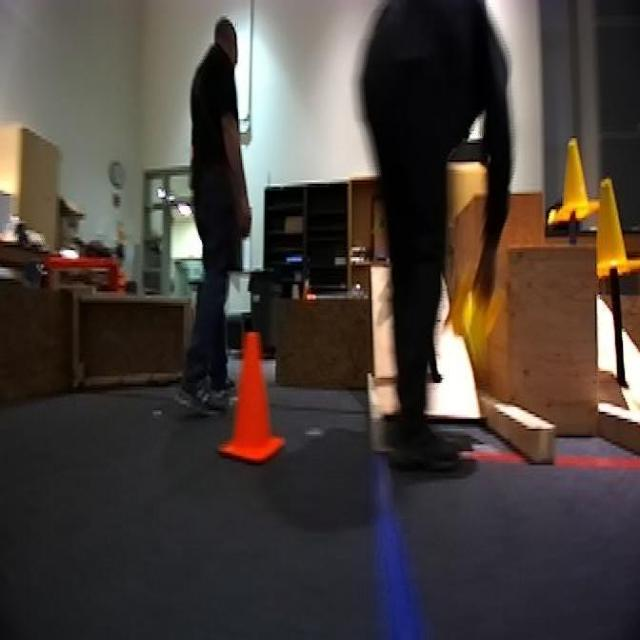frc_cone: (586, 180, 639, 290), (446, 276, 506, 369), (550, 140, 599, 224)
